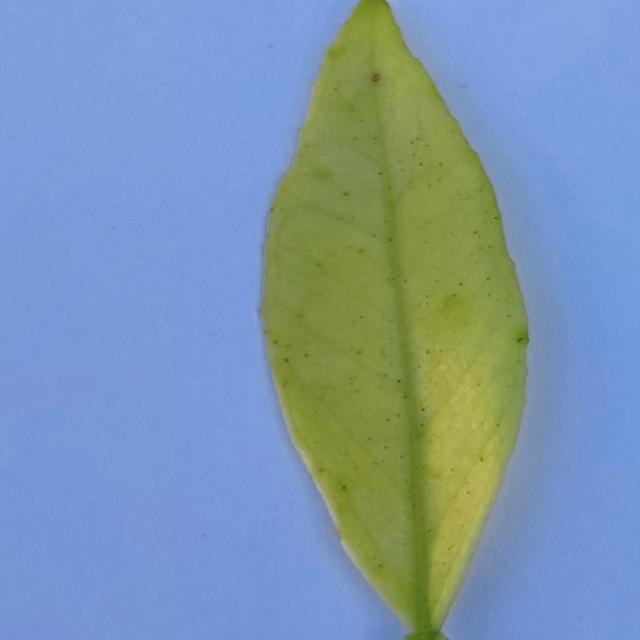greening: (262, 0, 527, 640)
